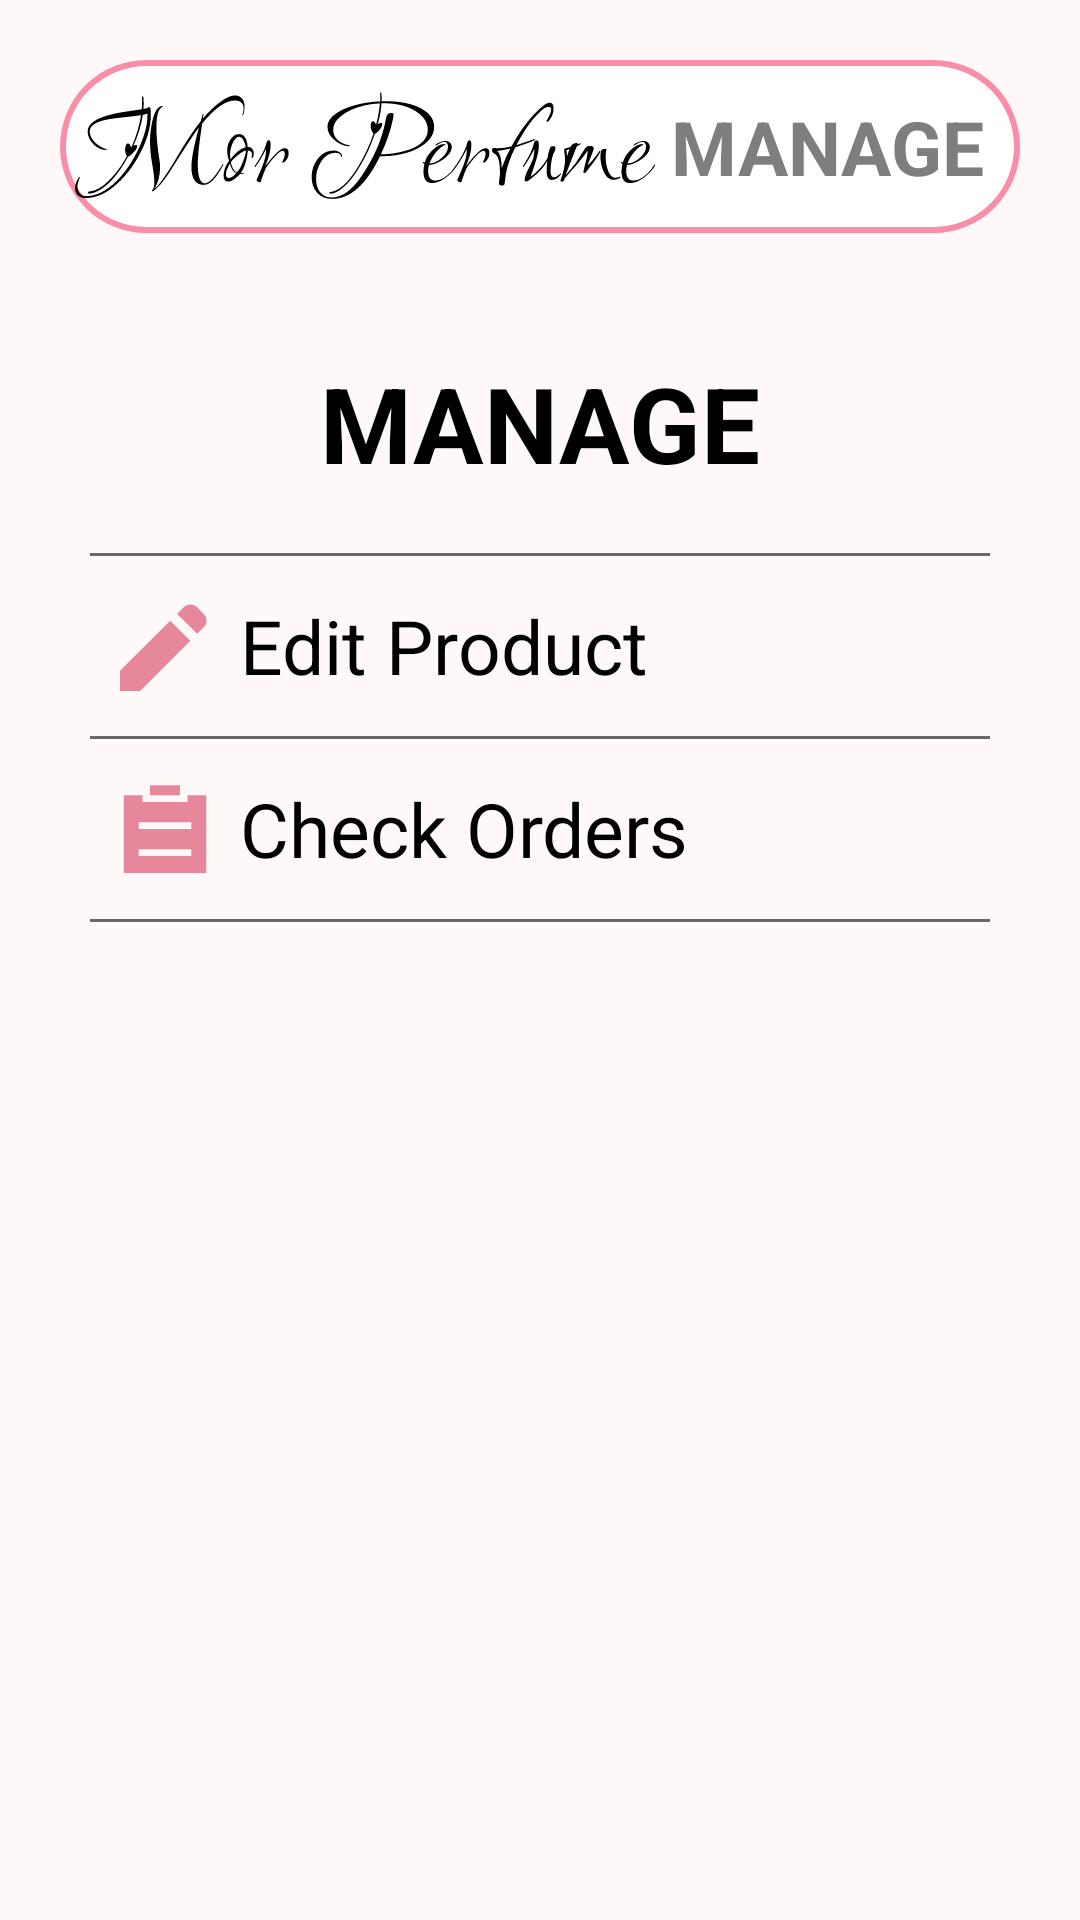

Named icons in this screenshot (1080 x 1920) and their bounding boxes, {"left": x1, "top": y1, "right": x2, "bottom": y2}:
pen: {"left": 120, "top": 604, "right": 207, "bottom": 691}
